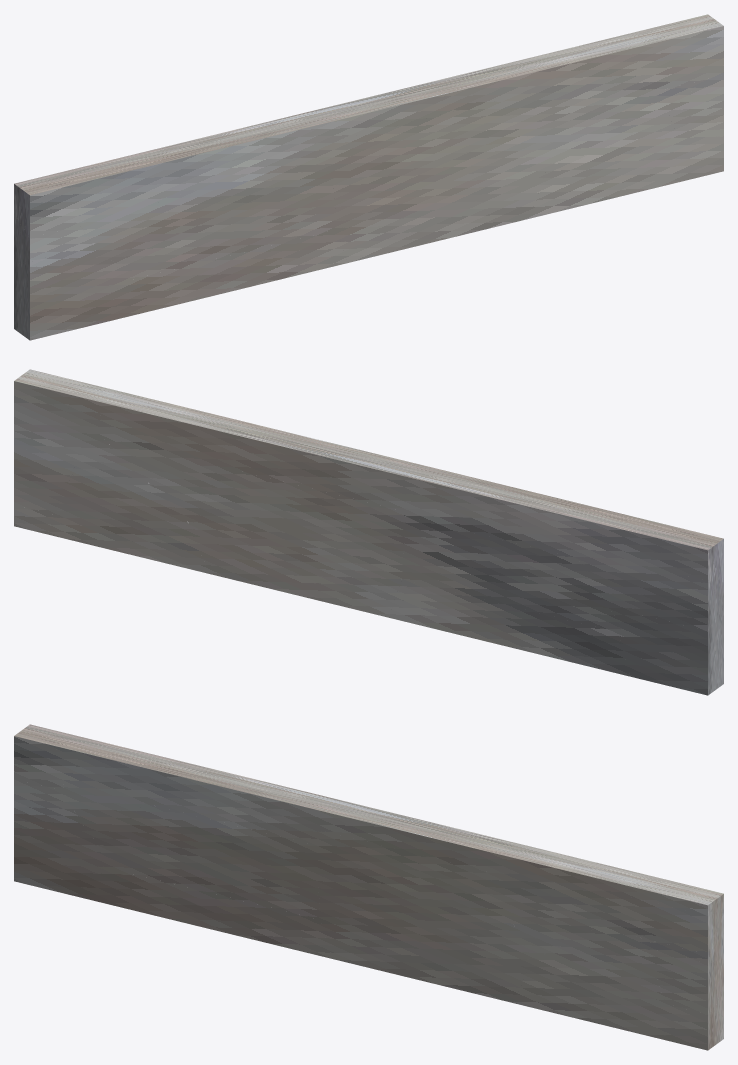
File: Pared-Rota.gltf
3 views of the same model, one above another, from view 1: azimuth 30°, elevation 25°; view 2: azimuth 150°, elevation 25°; view 3: azimuth 330°, elevation 25° (orthographic).
Parts seen in each view (by area): view 1: Cube_cell.018, Cube_cell.004, Cube_cell.009, Cube_cell.016, Cube_cell.002, Cube_cell.010, Cube_cell.011, Cube_cell.012, Cube_cell.008, Cube_cell.005, Cube_cell.003, Cube_cell.013 (+6 smaller); view 2: Cube_cell.018, Cube_cell.004, Cube_cell.009, Cube_cell.019, Cube_cell.002, Cube_cell.001, Cube_cell.008, Cube_cell.012, Cube_cell.011, Cube_cell.014, Cube_cell.015, Cube_cell.006 (+6 smaller); view 3: Cube_cell.018, Cube_cell.004, Cube_cell.009, Cube_cell.016, Cube_cell.002, Cube_cell.010, Cube_cell.012, Cube_cell.011, Cube_cell.008, Cube_cell.005, Cube_cell.003, Cube_cell.013 (+6 smaller).
Part boxes in pixels (x1,y1,x2,y2): Cube_cell.018: (332,99,547,262); Cube_cell.004: (117,157,336,282); Cube_cell.009: (530,80,681,218); Cube_cell.016: (501,44,637,166); Cube_cell.002: (144,110,334,198); Cube_cell.010: (109,229,347,321); Cube_cell.011: (14,246,119,340); Cube_cell.012: (55,152,159,264); Cube_cell.008: (317,67,502,140); Cube_cell.005: (623,14,723,91); Cube_cell.003: (662,84,723,144); Cube_cell.013: (624,15,723,57); Cube_cell.018: (191,468,405,617); Cube_cell.004: (402,516,619,632); Cube_cell.009: (60,440,207,573); Cube_cell.019: (99,393,244,525); Cube_cell.002: (405,464,593,558); Cube_cell.001: (389,579,630,676); Cube_cell.008: (229,423,418,511); Cube_cell.012: (578,507,681,622); Cube_cell.011: (618,605,723,695); Cube_cell.014: (14,395,104,461); Cube_cell.015: (633,569,723,630); Cube_cell.006: (661,530,721,580); Cube_cell.018: (316,830,531,1002); Cube_cell.004: (101,803,320,919); Cube_cell.009: (514,916,665,1040); Cube_cell.016: (486,849,624,959); Cube_cell.002: (144,756,332,844); Cube_cell.010: (93,867,331,958); Cube_cell.012: (56,734,159,848); Cube_cell.011: (14,802,103,900); Cube_cell.008: (319,798,507,870); Cube_cell.005: (619,873,723,954); Cube_cell.003: (646,948,723,1014); Cube_cell.013: (621,874,721,915).
Bounding box in the file's own units: 200 × 40 × 7.98.
1 material, 1 textured.
